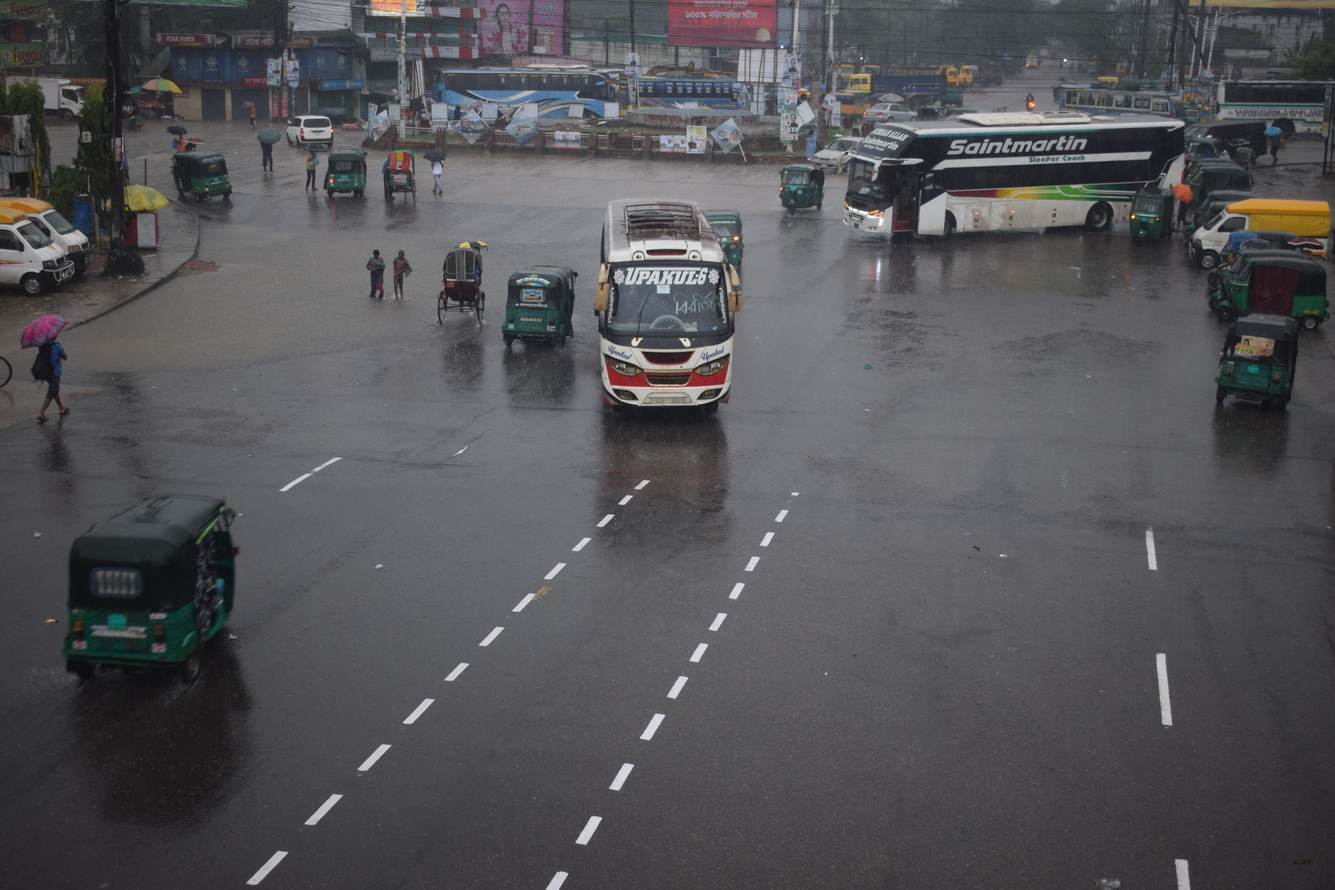Bus: (819, 103, 1199, 277), (402, 50, 626, 154), (613, 49, 794, 160), (1190, 54, 1335, 170)
Car: (415, 208, 505, 368), (0, 177, 82, 309), (376, 142, 437, 224), (274, 108, 355, 164), (808, 128, 866, 170)
Truck: (830, 44, 965, 118)
